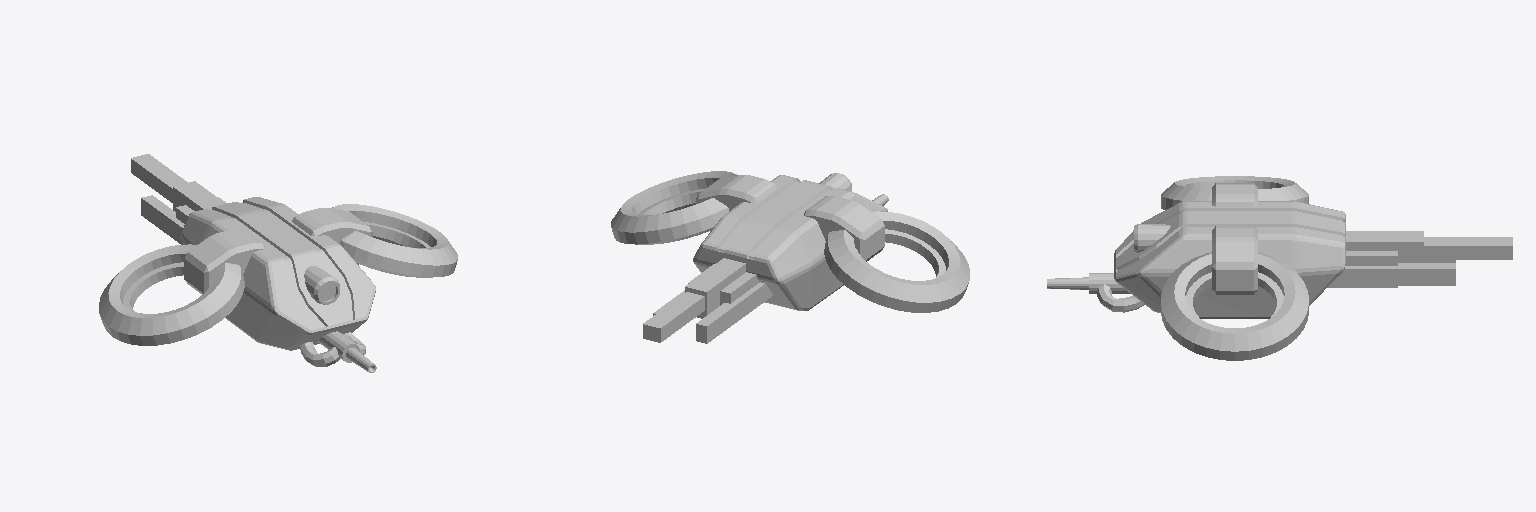
Rendered from ModelEnemy.obj.
The picture shows the model from 3 angles: view 1: azimuth 30°, elevation 25°; view 2: azimuth 150°, elevation 25°; view 3: azimuth 270°, elevation 25°; orthographic projection.
Parts seen in each view (by area): view 1: Cube.003_Cube.012; view 2: Cube.003_Cube.012; view 3: Cube.003_Cube.012.
Part boxes in pixels (x1,y1,x2,y2): Cube.003_Cube.012: (99, 154, 457, 372); Cube.003_Cube.012: (611, 171, 969, 343); Cube.003_Cube.012: (1047, 176, 1512, 360).
Size of the model in its own units: 2.03 by 0.5148 by 2.42.